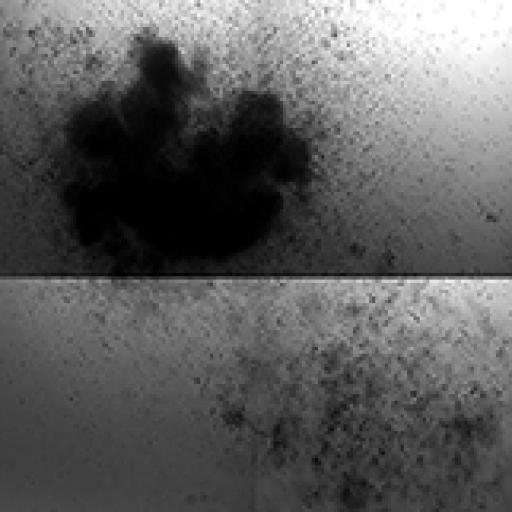CFU-GEMM: (62, 32, 308, 264)
